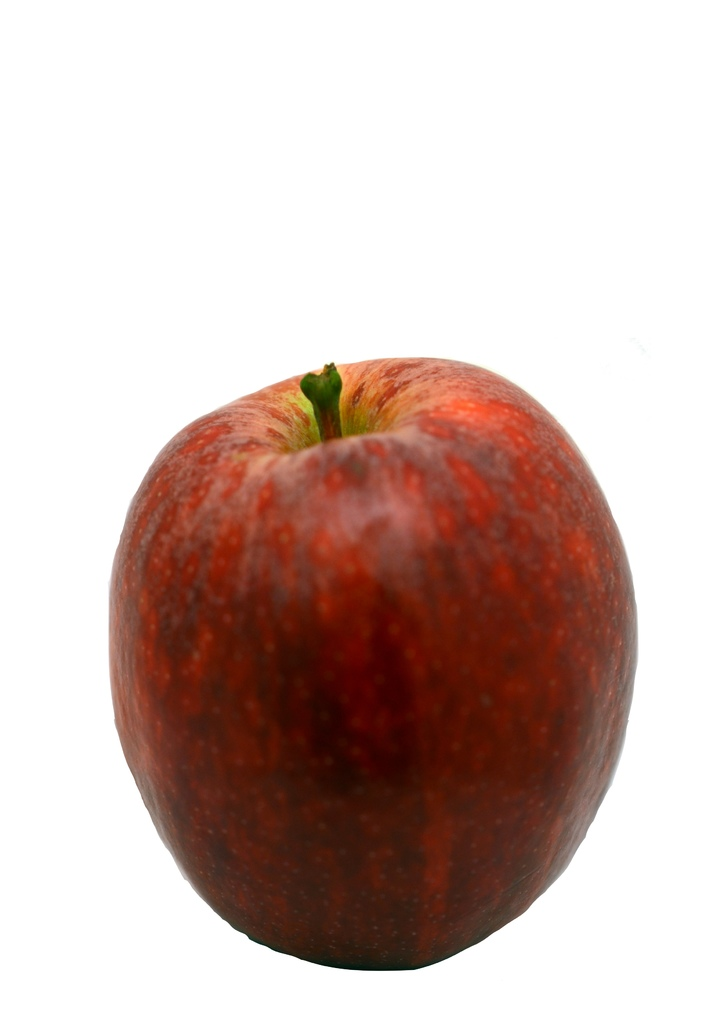Apple: (104, 344, 640, 944)
